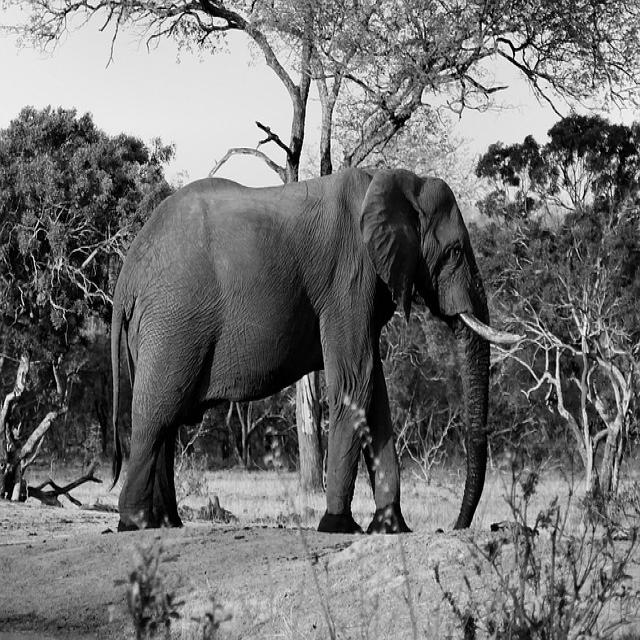elephant: (111, 169, 511, 533)
